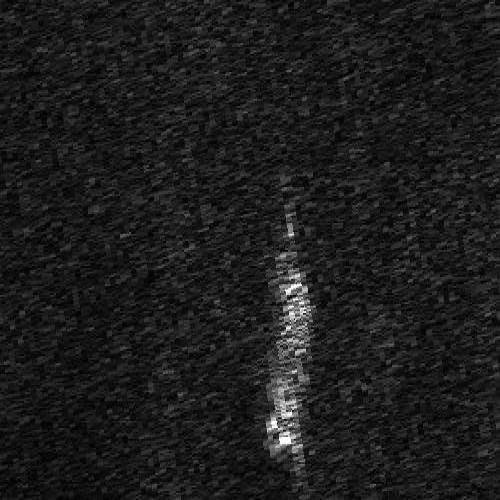ship: (267, 262, 314, 462)
